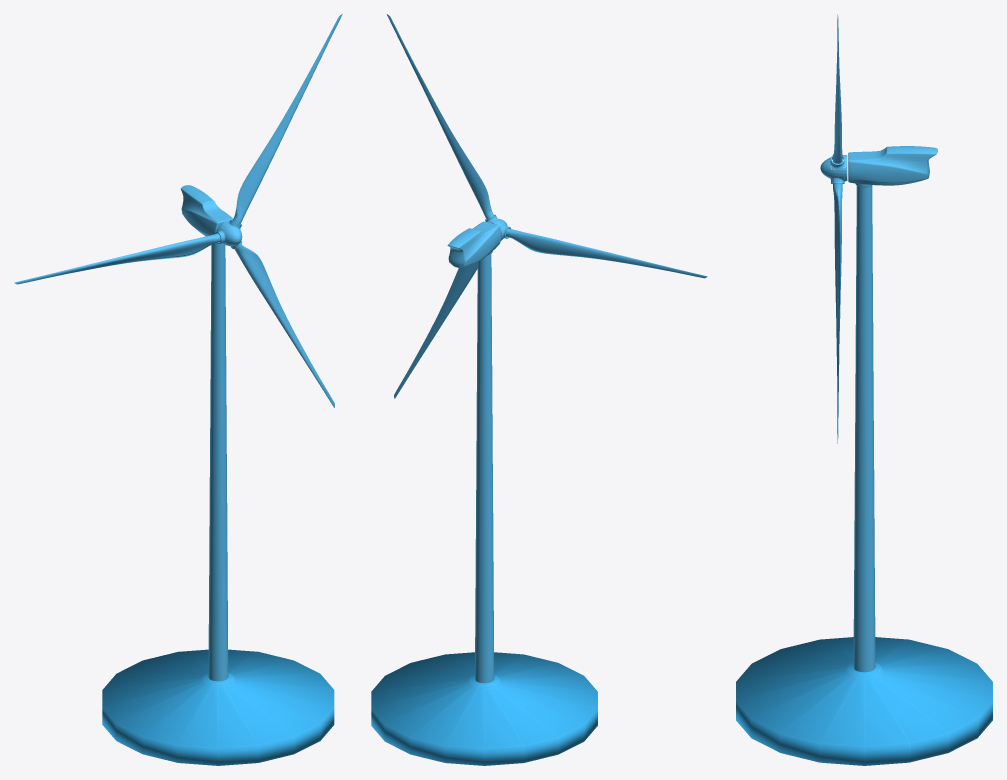
Rendered from shuangkui_xiankuang.glb.
3 renders of one model, left to right at view 1: azimuth 30°, elevation 25°; view 2: azimuth 150°, elevation 25°; view 3: azimuth 270°, elevation 25°, orthographic. The views are drawn at different scales.
Visible parts, largest first — view 1: xiankuang_jichu, xiankuang_tatong, xiankuang_yelun, xiankuang_jicang; view 2: xiankuang_jichu, xiankuang_tatong, xiankuang_yelun, xiankuang_jicang; view 3: xiankuang_jichu, xiankuang_tatong, xiankuang_jicang, xiankuang_yelun.
Part boxes in pixels (left/top/right/bottom): xiankuang_jichu: left=102, top=649, right=334, bottom=765; xiankuang_tatong: left=208, top=243, right=228, bottom=681; xiankuang_yelun: left=14, top=14, right=342, bottom=407; xiankuang_jicang: left=180, top=185, right=232, bottom=243; xiankuang_jichu: left=371, top=652, right=597, bottom=765; xiankuang_tatong: left=475, top=254, right=494, bottom=683; xiankuang_yelun: left=386, top=14, right=707, bottom=398; xiankuang_jicang: left=447, top=221, right=501, bottom=267; xiankuang_jichu: left=736, top=637, right=992, bottom=765; xiankuang_tatong: left=853, top=186, right=875, bottom=672; xiankuang_jicang: left=848, top=146, right=937, bottom=187; xiankuang_yelun: left=820, top=14, right=847, bottom=443.
Size of the model in its own units: 7032 by 13978 by 4298.
1 material, 1 textured.
